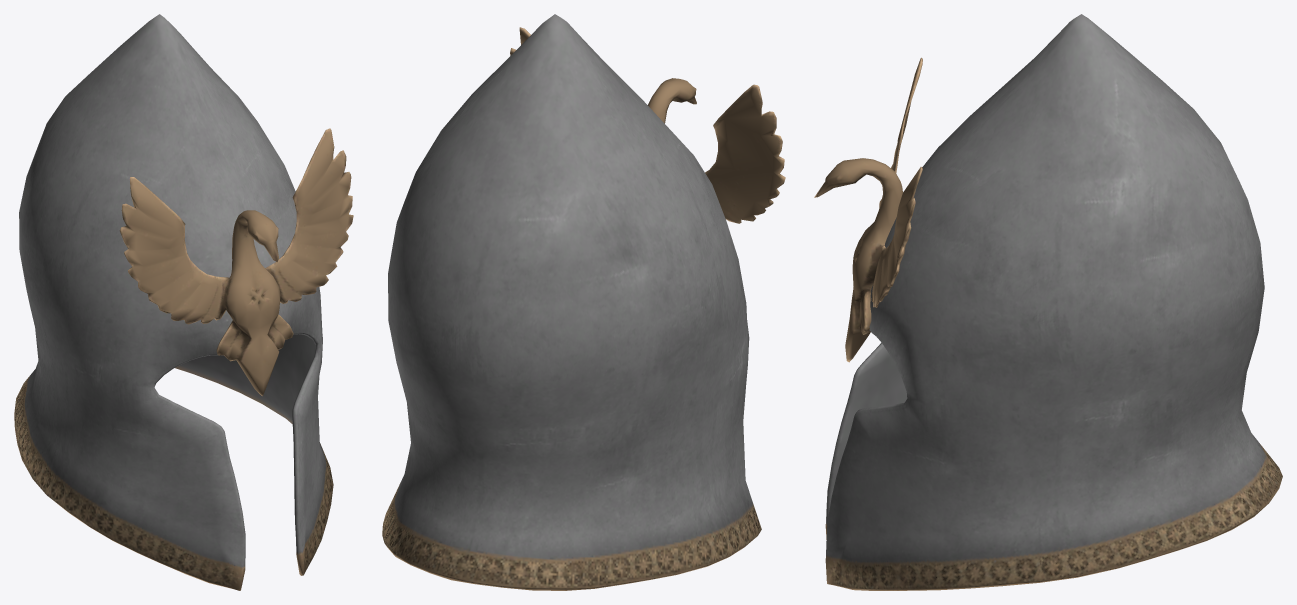
Rendered from dol_amroth_helmet_swan.fbx.
The picture shows the model from 3 angles, left to right: view 1: azimuth 30°, elevation 25°; view 2: azimuth 150°, elevation 25°; view 3: azimuth 270°, elevation 25°; orthographic projection. The views are drawn at different scales.
Visible parts, largest first — view 1: dol_amroth_helmet_swan; view 2: dol_amroth_helmet_swan; view 3: dol_amroth_helmet_swan.
Boxes of the visible parts, left/top/right/bottom form: dol_amroth_helmet_swan: left=14, top=14, right=353, bottom=590; dol_amroth_helmet_swan: left=382, top=14, right=785, bottom=590; dol_amroth_helmet_swan: left=814, top=14, right=1282, bottom=590.
Size of the model in its own units: 0.2101 by 0.2869 by 0.3733.
Materials: 1 (1 with a texture image).
